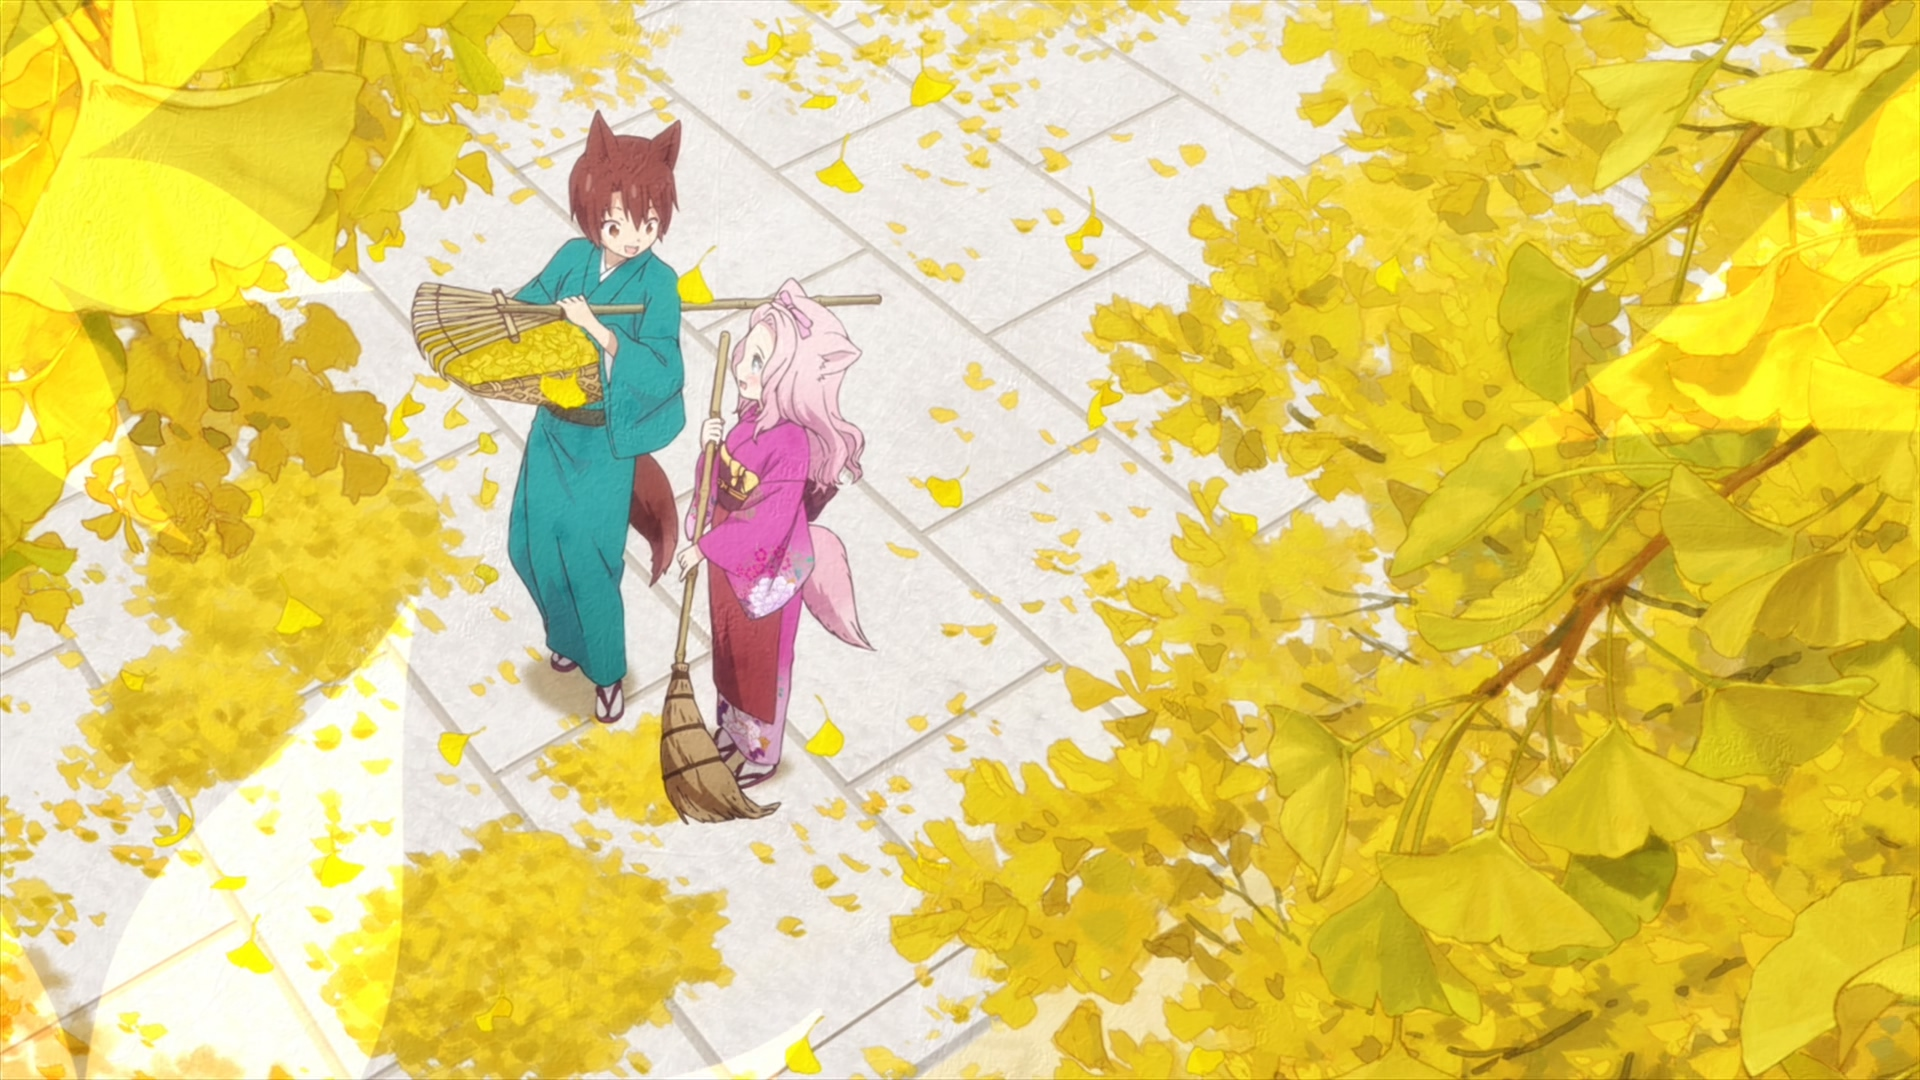枣: (508, 109, 688, 723)
莲: (679, 276, 878, 789)
